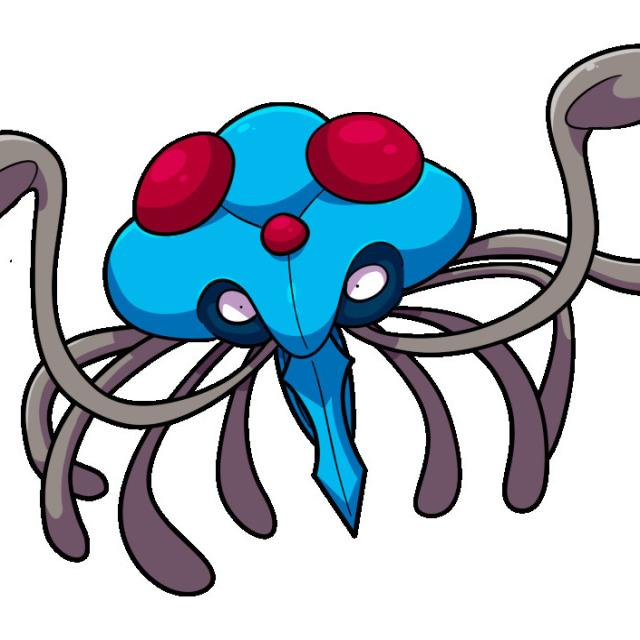Tentacruel: (0, 57, 640, 587)
